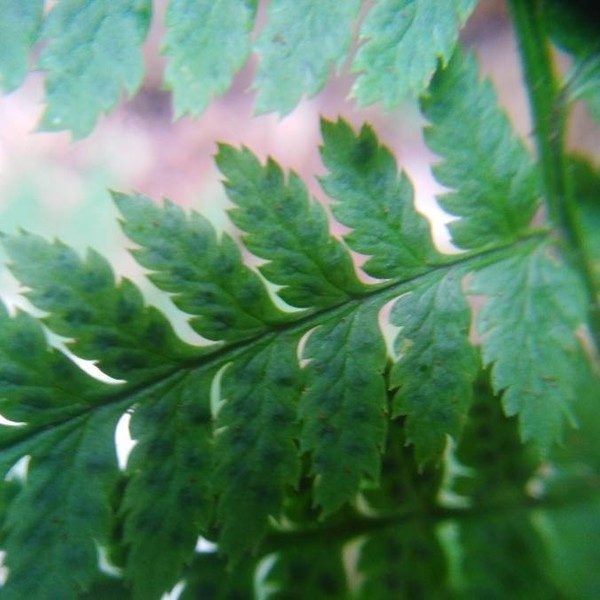obstacle: (10, 99, 586, 536)
